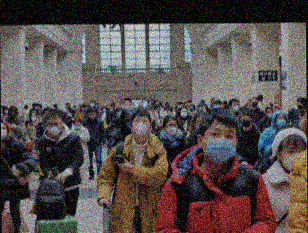with_mask: (201, 125, 237, 164), (279, 144, 306, 173), (131, 115, 151, 136), (46, 119, 62, 135), (164, 121, 178, 135), (274, 114, 287, 128), (240, 116, 252, 127), (1, 123, 8, 139), (264, 107, 274, 118), (147, 110, 155, 122), (230, 101, 239, 111), (179, 109, 189, 118), (74, 121, 83, 130), (29, 112, 38, 121), (7, 110, 17, 118), (123, 101, 132, 109), (250, 99, 258, 107), (65, 112, 73, 120), (213, 101, 222, 108), (88, 111, 96, 118), (296, 102, 303, 109), (167, 108, 173, 115), (188, 105, 194, 111), (89, 101, 95, 107), (81, 105, 87, 110)
without_mask: (137, 102, 143, 107)
